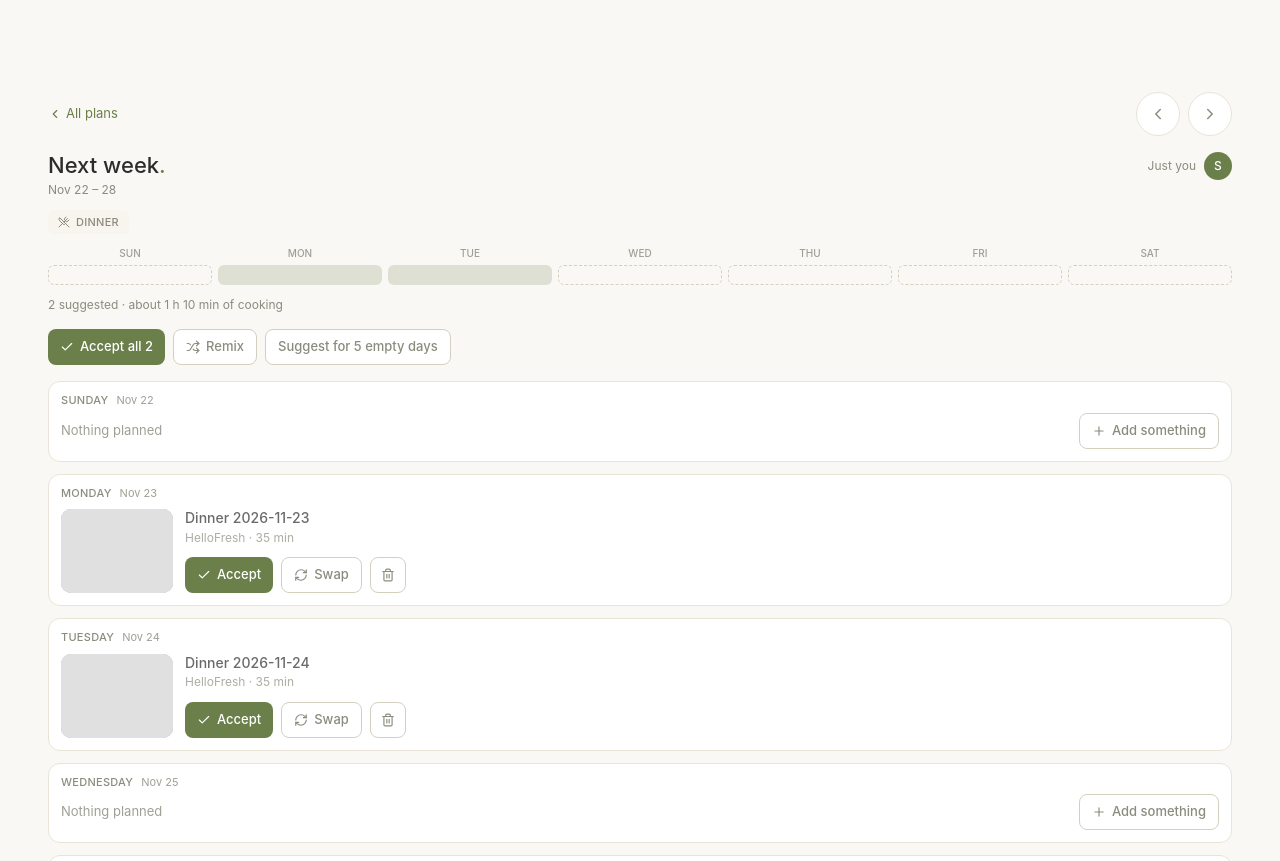
Test: Week editor › acting on suggestions › stops accepting all at the first failure and says which day
Click the button "Accept all 2" at (107, 347), box left=48, top=329, right=165, bottom=365
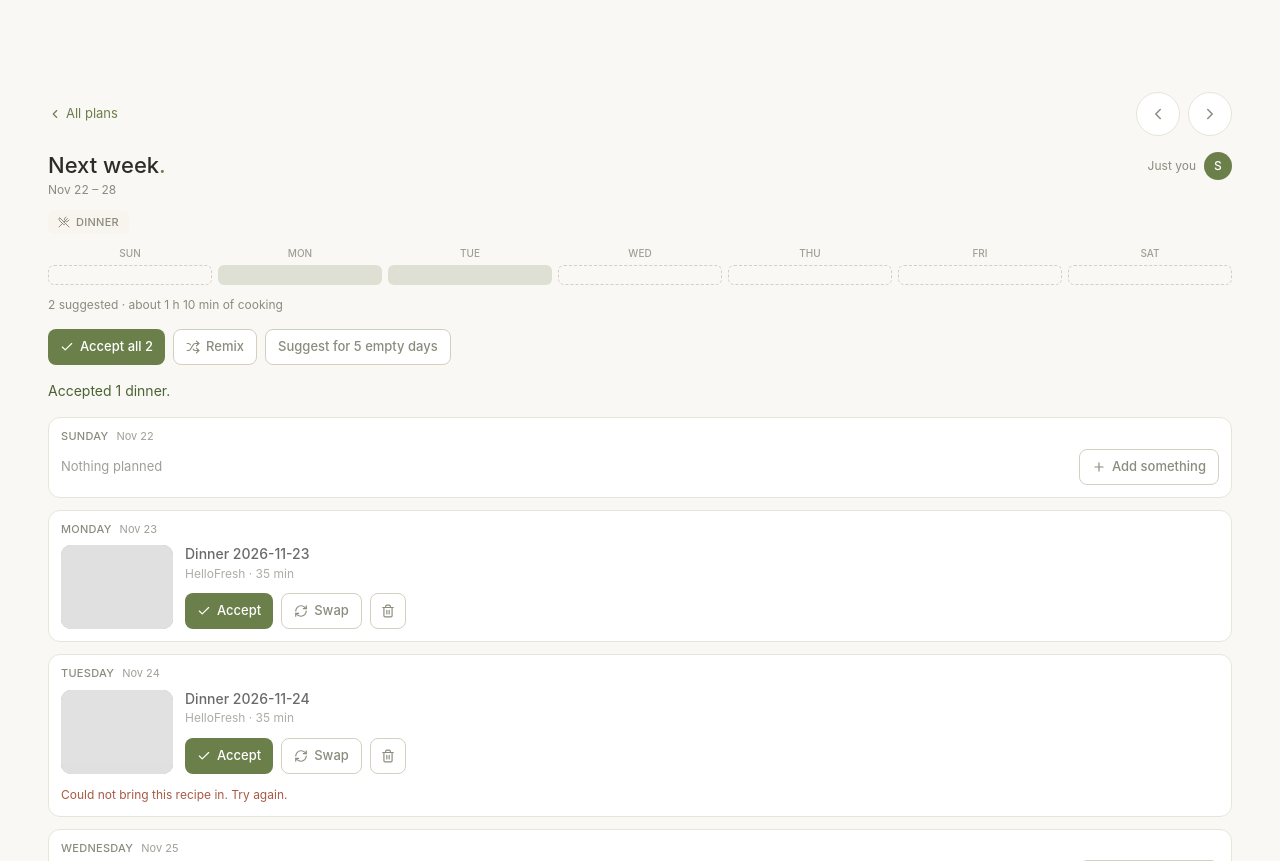
Expected: the message "Accepted 1 dinner." is shown, left=48, top=382, right=170, bottom=399
